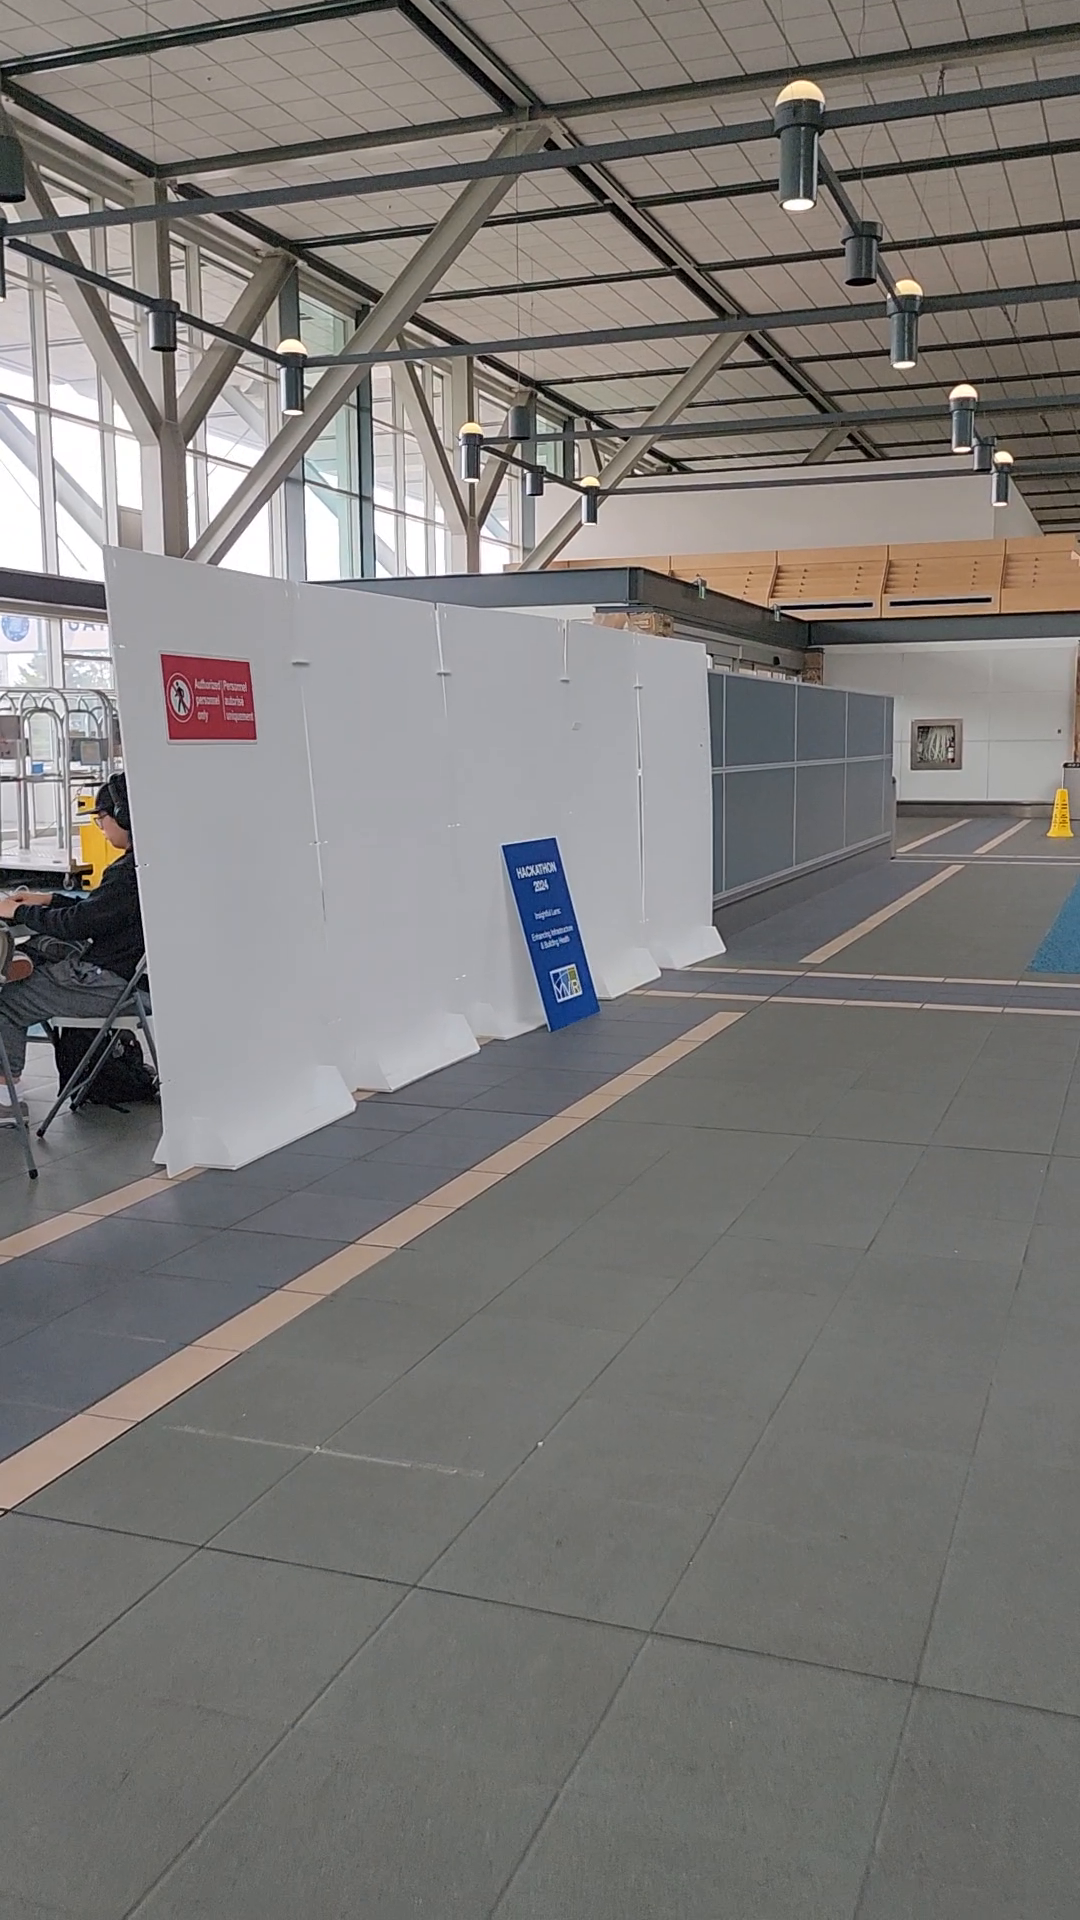Garbage: (524, 1425, 560, 1461)
Stain: (158, 1399, 501, 1501)
